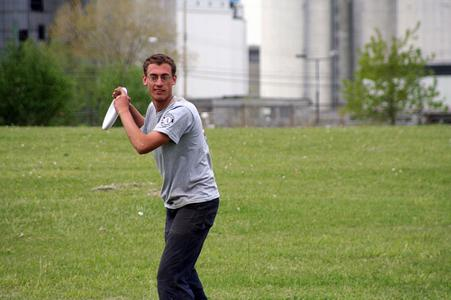person: (112, 54, 221, 300)
